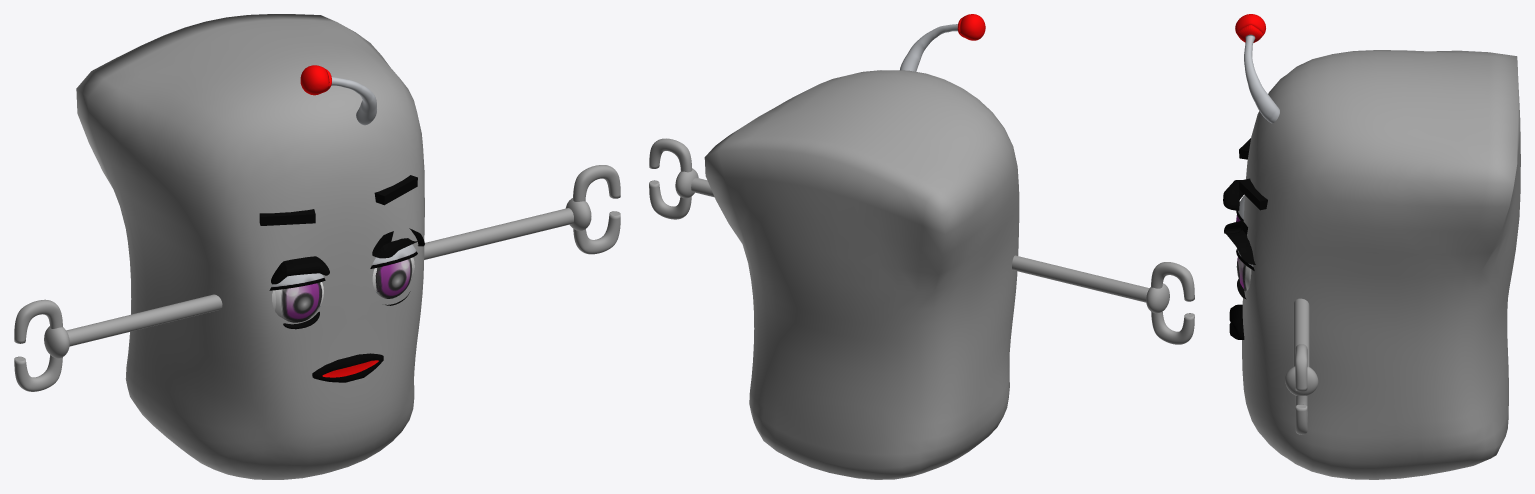
Rendered from Robot8aa.dae.
3 views of the same model, side by side, from view 1: azimuth 30°, elevation 25°; view 2: azimuth 150°, elevation 25°; view 3: azimuth 270°, elevation 25° (orthographic). The views are drawn at different scales.
Parts seen in each view (by area): view 1: Body, ArmD, ArmG, MainD2, MainG2, Epi, OD, Bouche, OG, SourcilDH, SourcilHautD, SourcilGH (+2 smaller); view 2: Body, ArmD, MainD2, MainG2, Epi; view 3: Body, Epi, MainG2, ArmG, SourcilGH, MainG1, Bouche, SourcilHautG, SourcilDH, OG.
Part boxes in pixels (left/top/right/bottom): Body: left=76, top=14, right=424, bottom=479; ArmD: left=66, top=294, right=222, bottom=346; ArmG: left=424, top=208, right=573, bottom=259; MainD2: left=14, top=299, right=62, bottom=391; MainG2: left=573, top=165, right=620, bottom=254; Epi: left=300, top=65, right=376, bottom=125; OD: left=272, top=282, right=323, bottom=322; Bouche: left=312, top=353, right=383, bottom=382; OG: left=372, top=257, right=414, bottom=298; SourcilDH: left=271, top=256, right=329, bottom=284; SourcilHautD: left=259, top=209, right=315, bottom=225; SourcilGH: left=372, top=228, right=424, bottom=258; Body: left=704, top=70, right=1019, bottom=479; ArmD: left=1012, top=255, right=1149, bottom=302; MainD2: left=1151, top=262, right=1194, bottom=344; MainG2: left=649, top=138, right=692, bottom=219; Epi: left=900, top=14, right=985, bottom=71; Body: left=1242, top=50, right=1520, bottom=479; Epi: left=1235, top=14, right=1279, bottom=123; MainG2: left=1295, top=344, right=1307, bottom=434; ArmG: left=1293, top=298, right=1309, bottom=366; SourcilGH: left=1224, top=220, right=1255, bottom=264; MainG1: left=1285, top=366, right=1318, bottom=395; Bouche: left=1229, top=304, right=1244, bottom=339; SourcilHautG: left=1239, top=178, right=1267, bottom=210; SourcilDH: left=1223, top=180, right=1243, bottom=210; OG: left=1236, top=257, right=1251, bottom=291.
Size of the model in its own units: 6.25 by 2.77 by 4.43.
6 materials, 4 textured.
